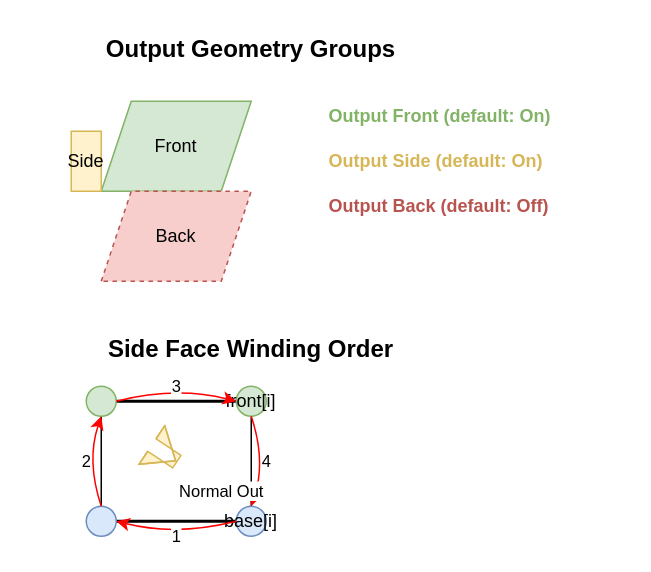
This 651x572 diagram has some shape labels left out. Here are the shapes that lost their labels. From the top down, the centre of each, then its label:
the point at 100,400: front[next]
the point at 100,520: base[next]
